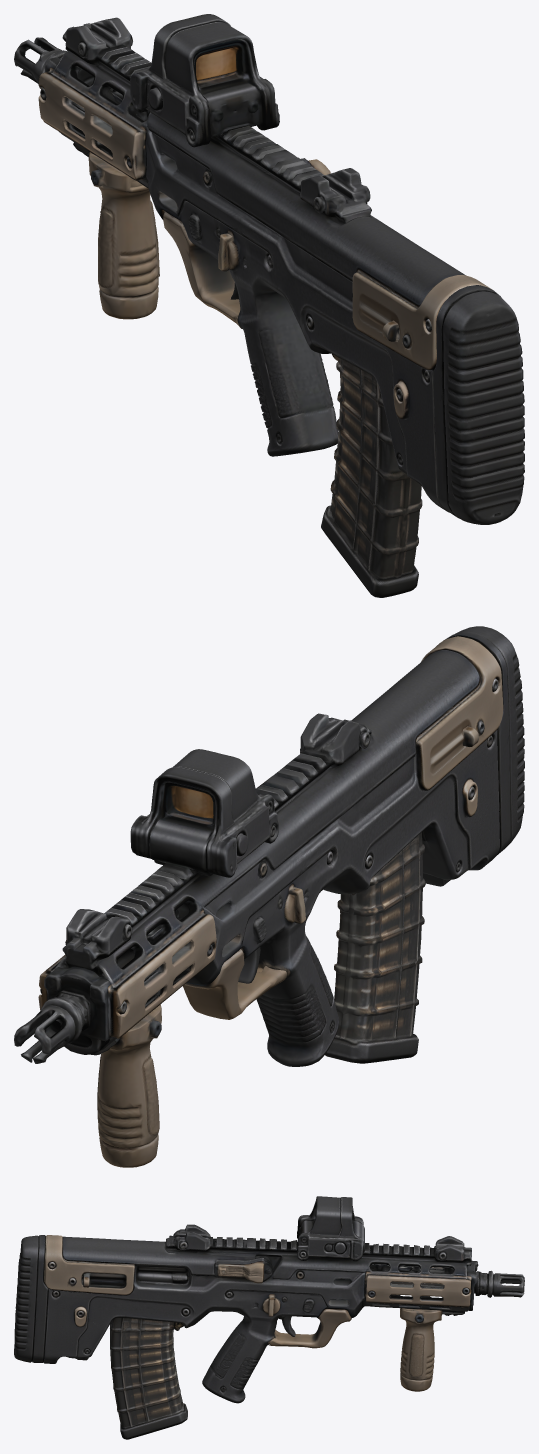
Rendered from bullpup.glb.
3 views of the same model, one above another, from view 1: azimuth 30°, elevation 25°; view 2: azimuth 150°, elevation 25°; view 3: azimuth 270°, elevation 25° (orthographic). The views are drawn at different scales.
Parts seen in each view (by area): view 1: tripo_node_c88001ba-ec03-4307-8221-11ccf76dfd07; view 2: tripo_node_c88001ba-ec03-4307-8221-11ccf76dfd07; view 3: tripo_node_c88001ba-ec03-4307-8221-11ccf76dfd07.
Boxes of the visible parts, box(x1,y1,x2,y2) form: tripo_node_c88001ba-ec03-4307-8221-11ccf76dfd07: box(14, 14, 524, 597); tripo_node_c88001ba-ec03-4307-8221-11ccf76dfd07: box(14, 626, 524, 1167); tripo_node_c88001ba-ec03-4307-8221-11ccf76dfd07: box(14, 1196, 524, 1439).
Bounding box in the file's own units: 0.1208 × 0.4955 × 0.9805.
Materials: 1 (1 with a texture image).
